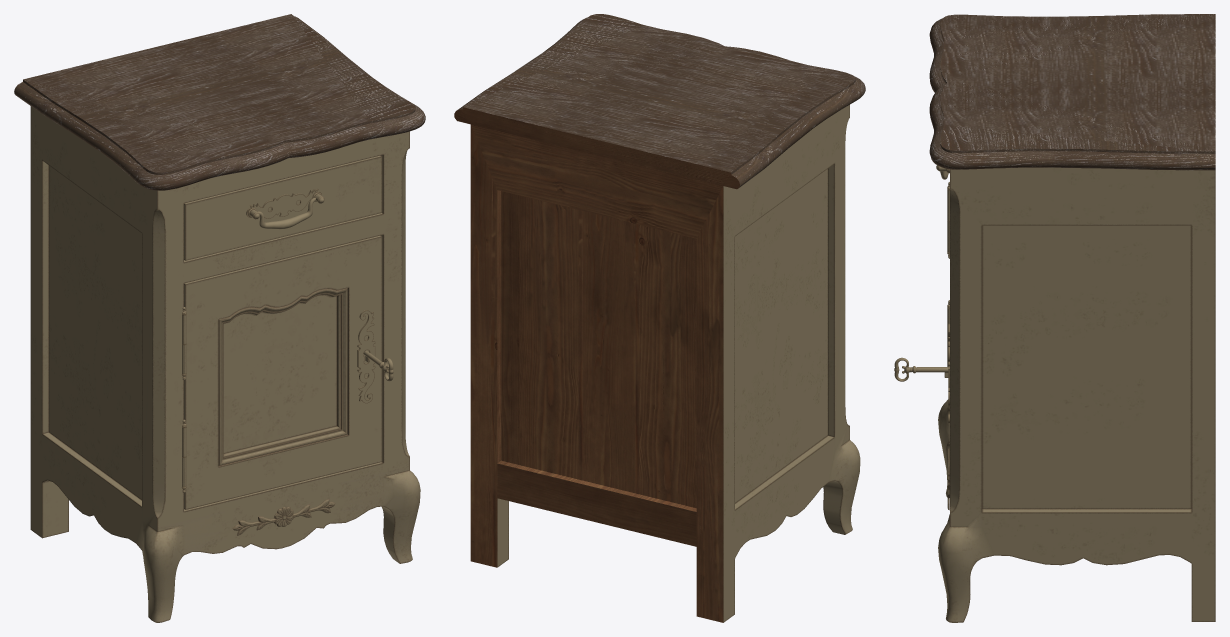
Rendered from example113.gltf.
3 renders of one model, left to right at view 1: azimuth 30°, elevation 25°; view 2: azimuth 150°, elevation 25°; view 3: azimuth 270°, elevation 25°, orthographic. The views are drawn at different scales.
Bounding box in the file's own units: 42.99 × 65 × 39.92.
4 materials, 4 textured.
